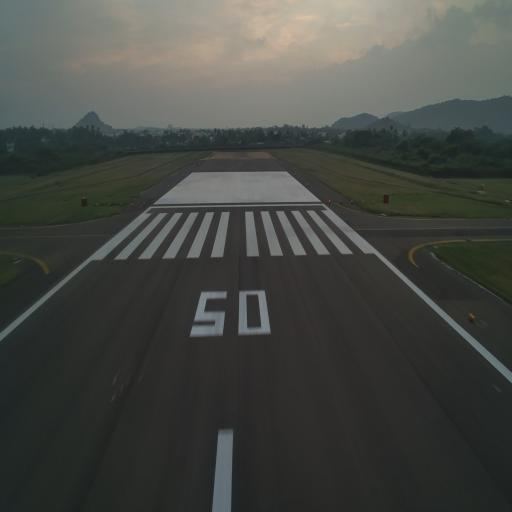off: (119, 202, 122, 205), (143, 202, 145, 205)
on: (468, 306, 478, 329), (96, 202, 99, 206), (131, 202, 134, 206), (328, 200, 331, 204), (350, 199, 353, 203), (373, 200, 376, 203), (340, 200, 342, 204), (362, 199, 364, 203), (108, 203, 110, 206)
